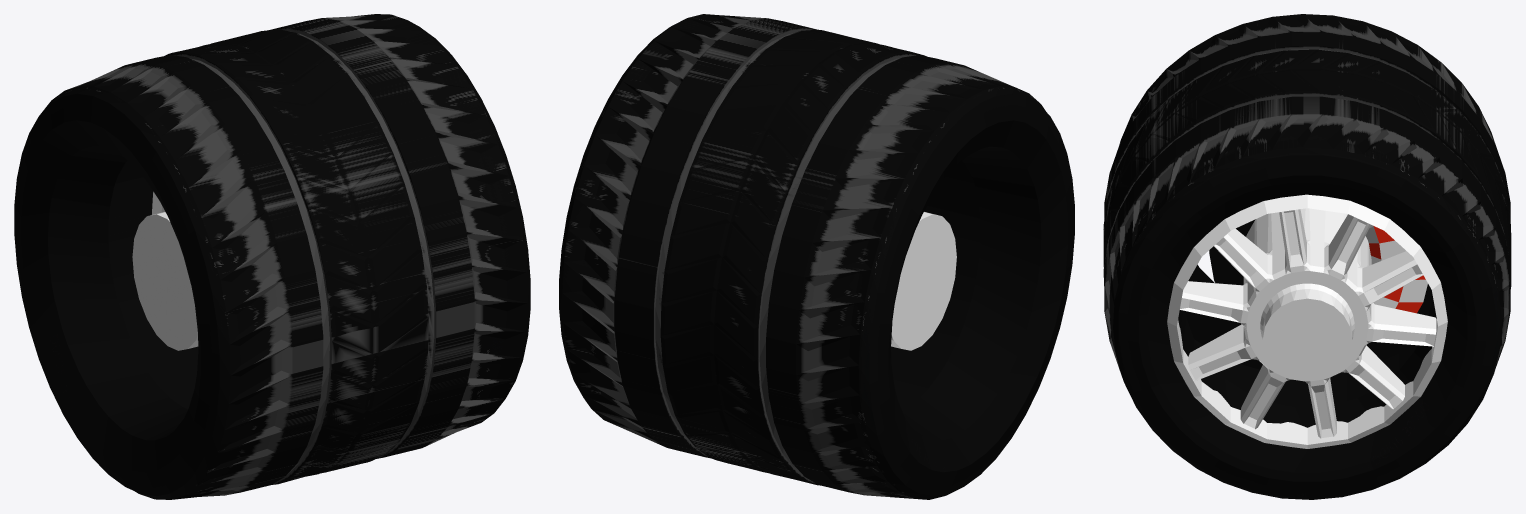
File: leftFrontWheel.obj
3 views of the same model, side by side, from view 1: azimuth 30°, elevation 25°; view 2: azimuth 150°, elevation 25°; view 3: azimuth 270°, elevation 25° (orthographic). The views are drawn at different scales.
Visible parts, largest first — view 1: tirethin.004_tirethin.002_tirethin.004_tirethin.003; view 2: tirethin.004_tirethin.002_tirethin.004_tirethin.003; view 3: tirethin.004_tirethin.002_tirethin.004_tirethin.003.
Boxes of the visible parts, x1=… form: tirethin.004_tirethin.002_tirethin.004_tirethin.003: x1=14, y1=14, x2=530, y2=499; tirethin.004_tirethin.002_tirethin.004_tirethin.003: x1=559, y1=14, x2=1074, y2=499; tirethin.004_tirethin.002_tirethin.004_tirethin.003: x1=1103, y1=14, x2=1511, y2=499.
Size of the model in its own units: 15.83 by 17.65 by 17.65.
Materials: 1 (1 with a texture image).
